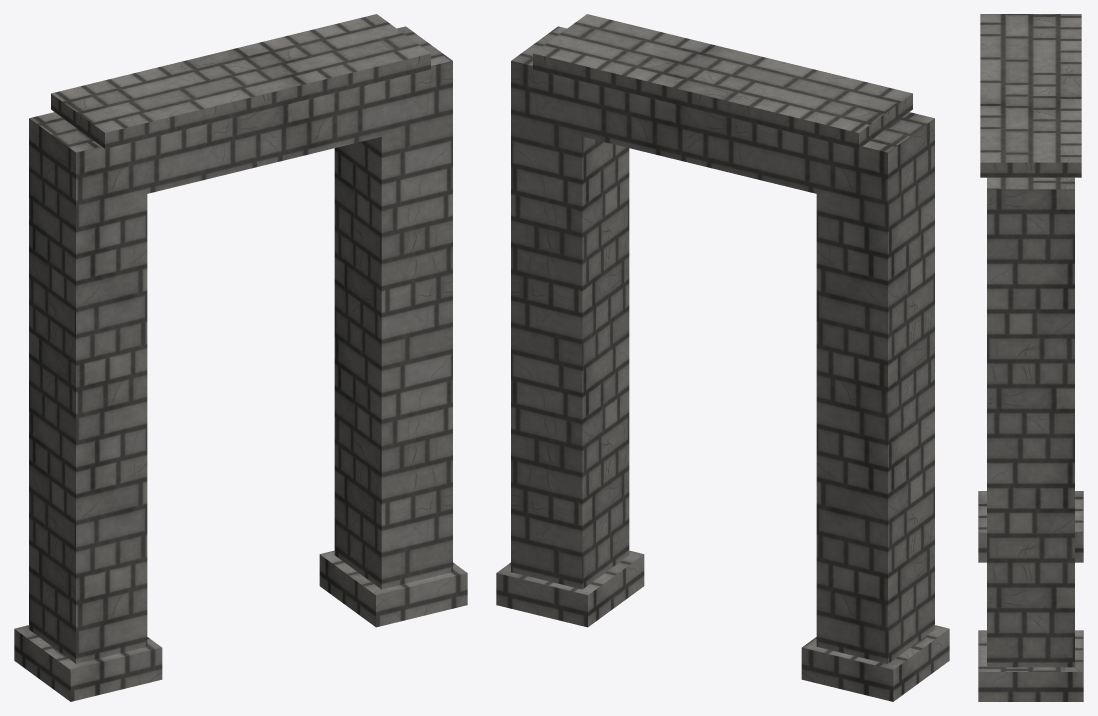
File: portal.glb
3 views of the same model, side by side, from view 1: azimuth 30°, elevation 25°; view 2: azimuth 150°, elevation 25°; view 3: azimuth 270°, elevation 25° (orthographic). The views are drawn at different scales.
Parts seen in each view (by area): view 1: portal; view 2: portal; view 3: portal.
Part boxes in pixels (x1=…): portal: x1=14, y1=14, x2=467, y2=701; portal: x1=496, y1=14, x2=949, y2=701; portal: x1=978, y1=14, x2=1083, y2=701.
Bounding box in the file's own units: 3.9 × 5.25 × 0.96.
1 material, 1 textured.
